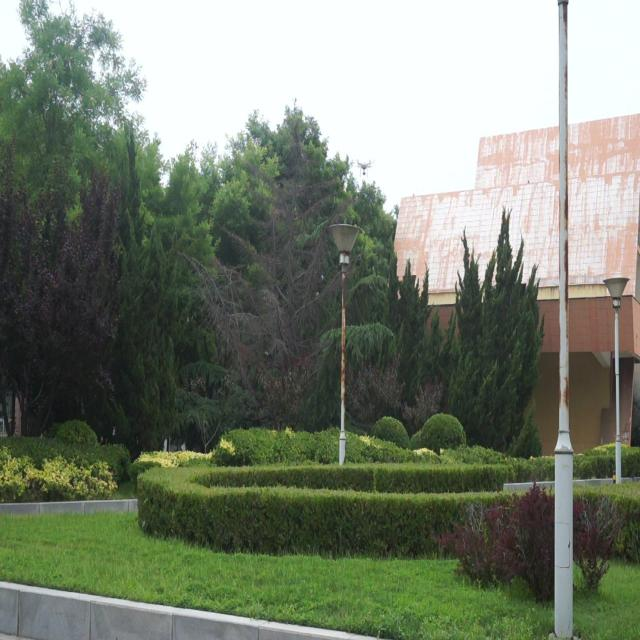drone: (356, 156, 372, 180)
